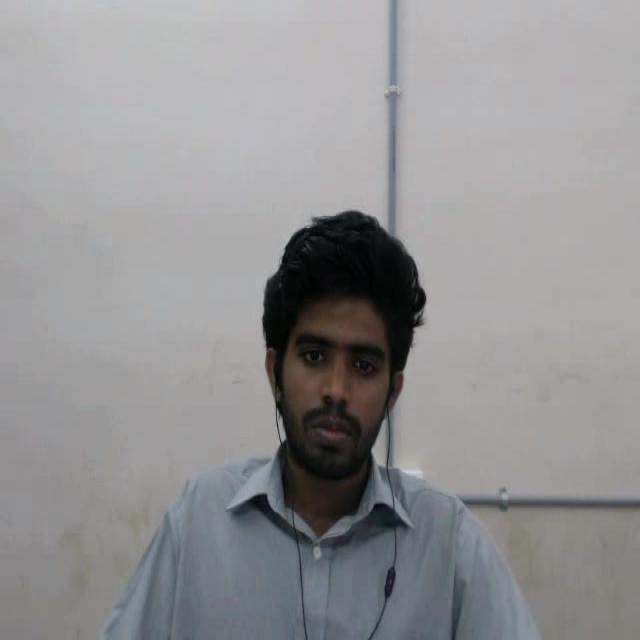Engaged: (232, 184, 446, 510)
